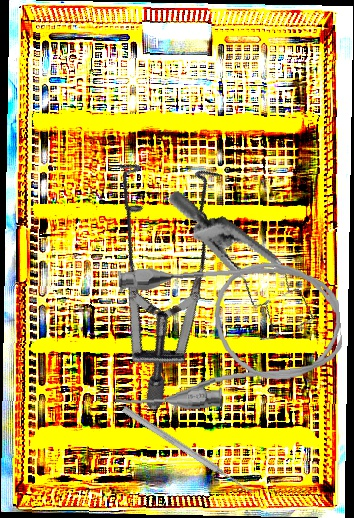Cannula: (104, 252, 347, 416)
Pusher: (120, 404, 256, 498)
Speculum: (13, 124, 291, 414), (138, 189, 339, 353)
